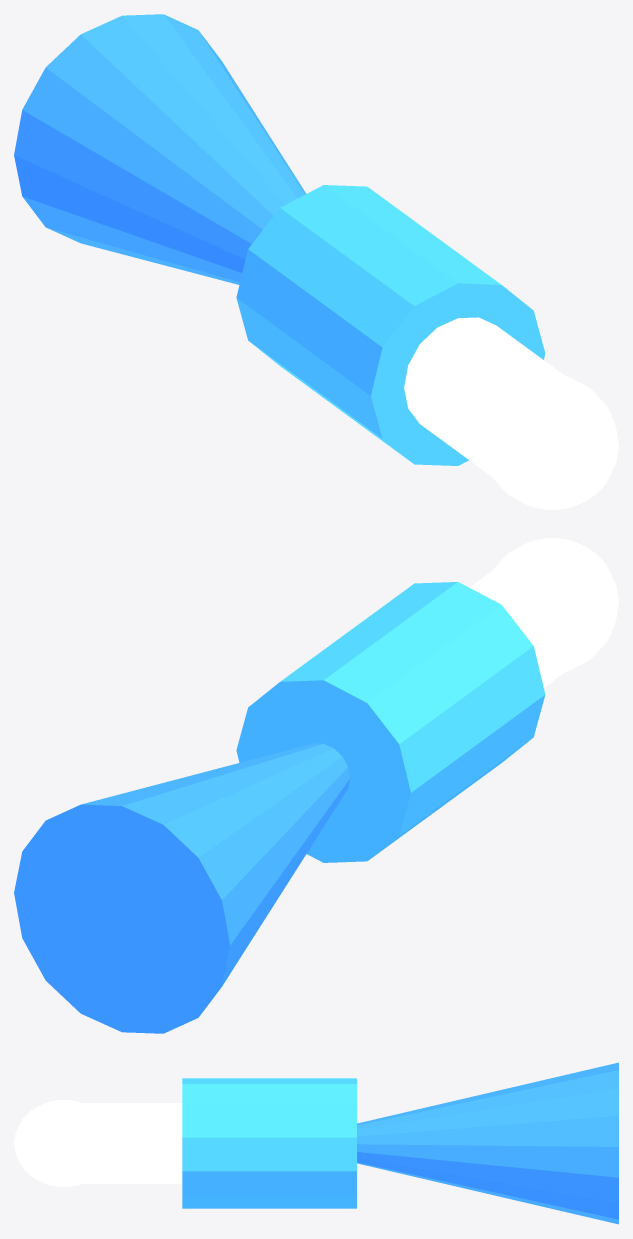
The model's file is bullet.glb.
3 renders of one model, top to bottom at view 1: azimuth 30°, elevation 25°; view 2: azimuth 150°, elevation 25°; view 3: azimuth 270°, elevation 25°, orthographic. The views are drawn at different scales.
Visible parts, largest first — view 1: EnergyTrail, EnergyShell, EnergyCore; view 2: EnergyTrail, EnergyShell, EnergyCore; view 3: EnergyTrail, EnergyShell, EnergyCore.
Boxes of the visible parts, left/top/right/bottom form: EnergyTrail: left=14, top=14, right=306, bottom=284; EnergyShell: left=236, top=185, right=545, bottom=465; EnergyCore: left=404, top=317, right=618, bottom=509; EnergyTrail: left=14, top=743, right=350, bottom=1033; EnergyShell: left=236, top=582, right=545, bottom=862; EnergyCore: left=469, top=538, right=618, bottom=687; EnergyTrail: left=357, top=1062, right=618, bottom=1224; EnergyShell: left=182, top=1078, right=356, bottom=1208; EnergyCore: left=14, top=1100, right=182, bottom=1186.
Size of the model in its own units: 0.26 by 0.26 by 0.97.
